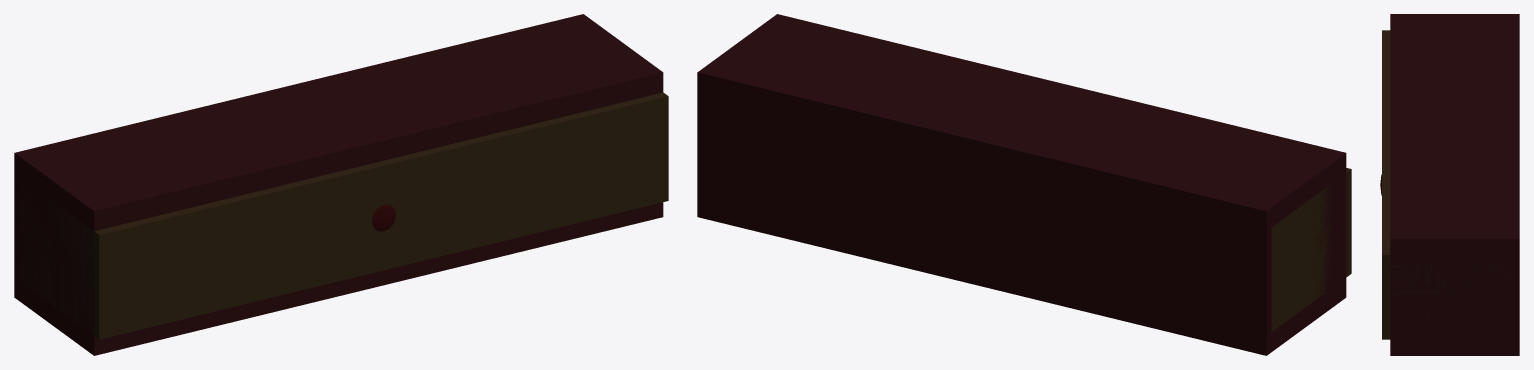
File: TD_OverDamageBlock.obj
The picture shows the model from 3 angles, left to right: view 1: azimuth 30°, elevation 25°; view 2: azimuth 150°, elevation 25°; view 3: azimuth 270°, elevation 25°; orthographic projection. The views are drawn at different scales.
Parts seen in each view (by area): view 1: 球; view 2: 球; view 3: 球.
Boxes of the visible parts, <box> form: 球: <box>14,14,668,355</box>; 球: <box>697,14,1351,355</box>; 球: <box>1380,14,1519,355</box>.
Bounding box in the file's own units: 8.23 × 2 × 2.16.
